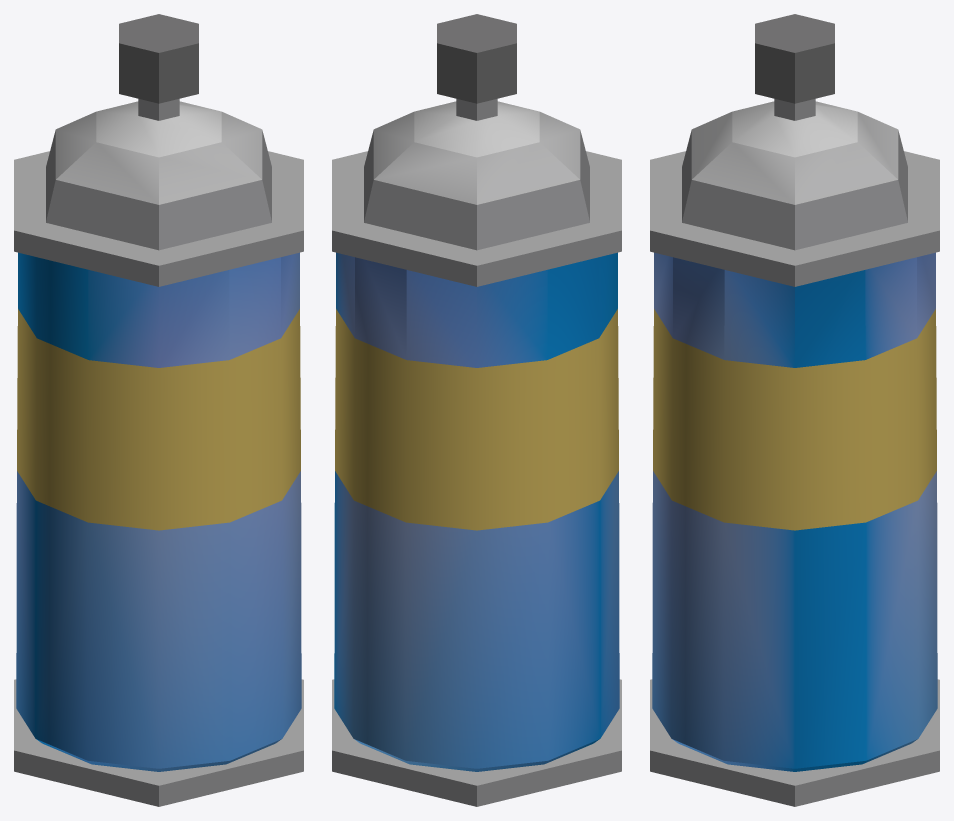
Rendered from colect_spray.glb.
3 renders of one model, left to right at view 1: azimuth 30°, elevation 25°; view 2: azimuth 150°, elevation 25°; view 3: azimuth 270°, elevation 25°, orthographic.
Parts seen in each view (by area): view 1: colect_spray; view 2: colect_spray; view 3: colect_spray.
Boxes of the visible parts, left/top/right/bottom form: colect_spray: left=14, top=14, right=303, bottom=806; colect_spray: left=332, top=14, right=621, bottom=806; colect_spray: left=650, top=14, right=939, bottom=806.
Bounding box in the file's own units: 0.1802 × 0.4176 × 0.156.
